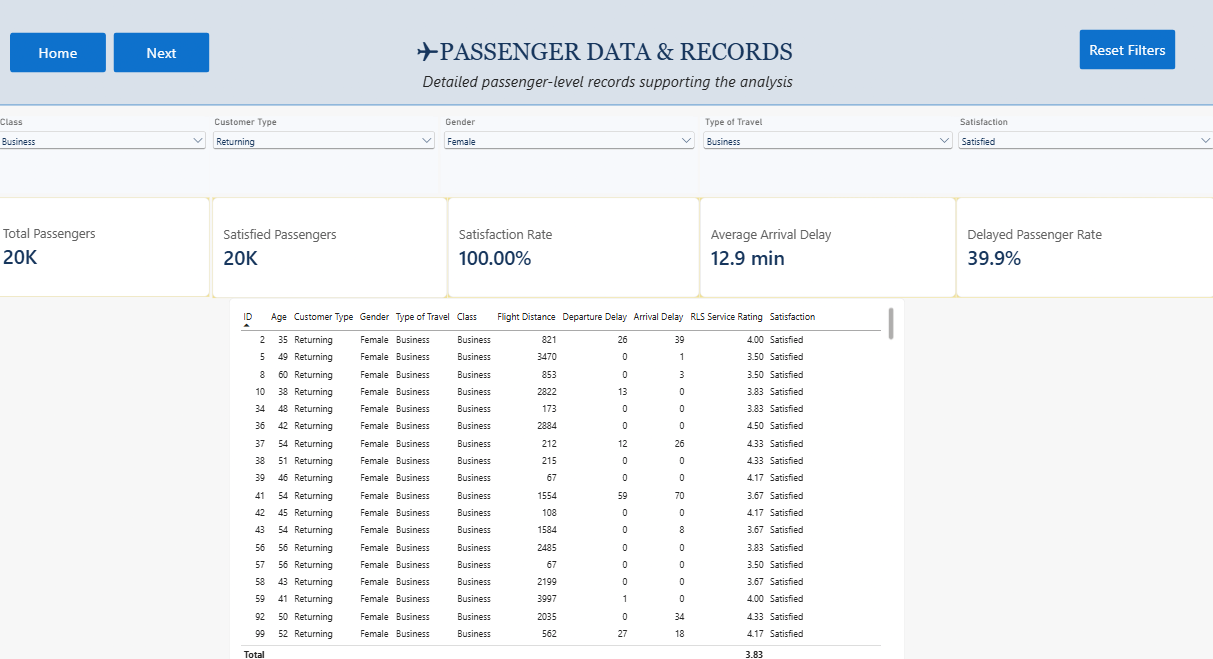

The page's visual inventory and layout, read from the dashboard file:
{"tool":"powerbi","page":{"name":"Data","canvas":[1920,1080],"ordinal":4},"visuals":[{"type":"shape","box":[2.4,0,1910,172.5],"z":1000},{"type":"slicer","fields":{"Values":["Airline.Class"]},"box":[5,190,335,120],"z":2000},{"type":"slicer","fields":{"Values":["Airline.Customer Type"]},"box":[340,190,357.5,120],"z":3000},{"type":"slicer","fields":{"Values":["Airline.Type of Travel"]},"box":[1106.7,190,400,120],"z":4000},{"type":"slicer","fields":{"Values":["Airline.Satisfaction"]},"box":[1506.7,190,410,120],"z":5000},{"type":"slicer","fields":{"Values":["Airline.Gender"]},"box":[702.5,190,402.5,120],"z":6000},{"type":"cardVisual","fields":{"Data":["Airline.Total Passengers"]},"box":[0,317.5,340,155],"z":7000},{"type":"cardVisual","fields":{"Data":["Airline.Satisfied Passengers"]},"box":[345,317.5,367.5,157.5],"z":8000},{"type":"cardVisual","fields":{"Data":["Airline.Satisfaction Rate"]},"box":[712.5,317.5,393.3,156.7],"z":9000},{"type":"cardVisual","fields":{"Data":["Airline.Average Arrival Delay Display"]},"box":[1106.7,316.7,400,156.7],"z":10000},{"type":"cardVisual","fields":{"Data":["Airline.Delayed Passenger Rate"]},"box":[1507.5,317.5,405.1,157],"z":11000},{"type":"tableEx","fields":{"Values":["Airline.ID","Airline.Age","Airline.Customer Type","Airline.Gender","Airline.Type of Travel","Airline.Class","Airline.Flight Distance","Airline.Departure Delay","Airline.Arrival Delay","Airline.RLS Service Rating","Airline.Satisfaction"]},"box":[370,475,1057.5,587.5],"z":12000},{"type":"actionButton","box":[1700,55,150,62.5],"z":13000},{"type":"actionButton","box":[27.5,57.5,150,62.5],"z":14000},{"type":"actionButton","box":[190,57.5,150,62.5],"z":15000},{"type":"textbox","box":[672.8,116.9,694.3,35.8],"z":16000}]}

Visuals, with their boxes on the page's 1920x1080 design canvas (x1, y1, x2, y2). These are canvas units, not pixel positions in the 1213x659 screenshot, which may show the page scaled, cropped or inside an application window:
shape: {"x1": 2, "y1": 0, "x2": 1912, "y2": 172}
slicer - Airline.Class: {"x1": 5, "y1": 190, "x2": 340, "y2": 310}
slicer - Airline.Customer Type: {"x1": 340, "y1": 190, "x2": 698, "y2": 310}
slicer - Airline.Type of Travel: {"x1": 1107, "y1": 190, "x2": 1507, "y2": 310}
slicer - Airline.Satisfaction: {"x1": 1507, "y1": 190, "x2": 1917, "y2": 310}
slicer - Airline.Gender: {"x1": 702, "y1": 190, "x2": 1105, "y2": 310}
cardVisual - Airline.Total Passengers: {"x1": 0, "y1": 318, "x2": 340, "y2": 472}
cardVisual - Airline.Satisfied Passengers: {"x1": 345, "y1": 318, "x2": 712, "y2": 475}
cardVisual - Airline.Satisfaction Rate: {"x1": 712, "y1": 318, "x2": 1106, "y2": 474}
cardVisual - Airline.Average Arrival Delay Display: {"x1": 1107, "y1": 317, "x2": 1507, "y2": 473}
cardVisual - Airline.Delayed Passenger Rate: {"x1": 1508, "y1": 318, "x2": 1913, "y2": 474}
tableEx - Airline.ID x Airline.Age: {"x1": 370, "y1": 475, "x2": 1428, "y2": 1062}
actionButton: {"x1": 1700, "y1": 55, "x2": 1850, "y2": 118}
actionButton: {"x1": 28, "y1": 58, "x2": 178, "y2": 120}
actionButton: {"x1": 190, "y1": 58, "x2": 340, "y2": 120}
textbox: {"x1": 673, "y1": 117, "x2": 1367, "y2": 153}
